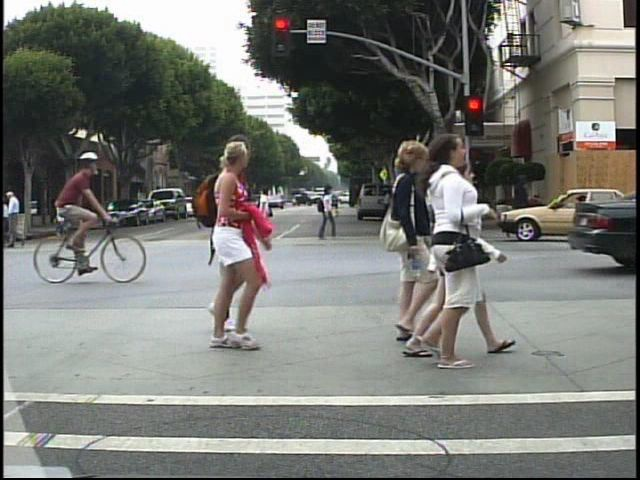person: (414, 136, 507, 376), (417, 159, 513, 362), (185, 140, 270, 349), (211, 145, 264, 341), (376, 139, 425, 346), (43, 148, 108, 277), (310, 183, 344, 245), (418, 177, 446, 239), (7, 187, 27, 251), (380, 187, 396, 223)
